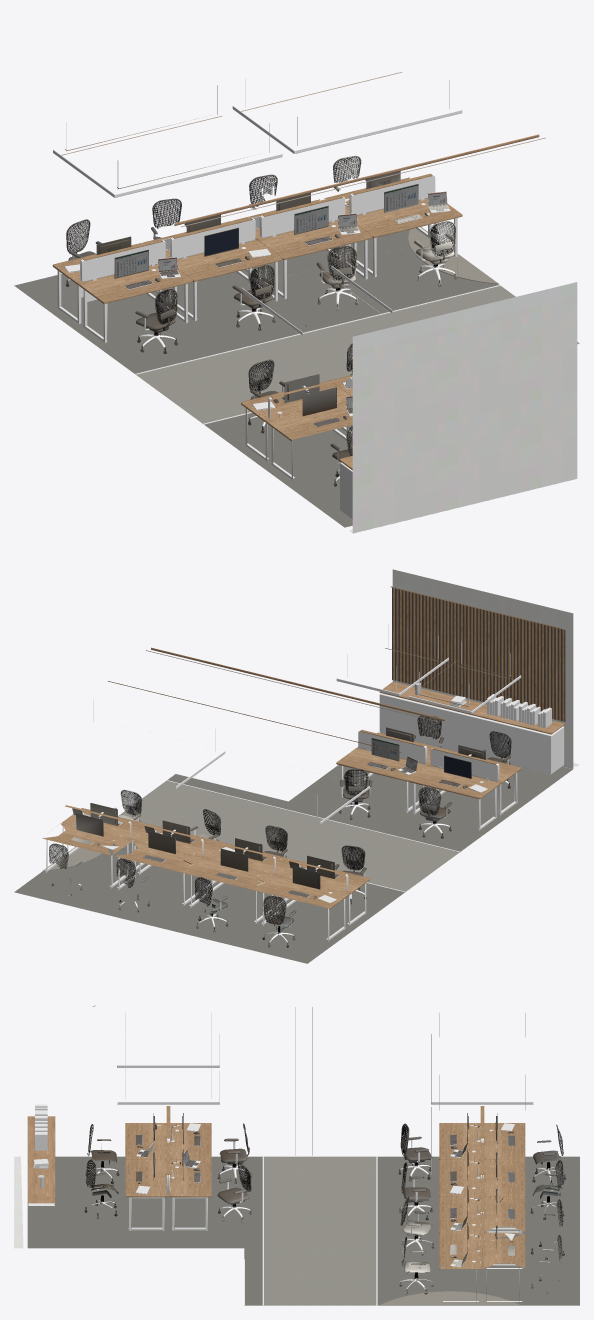
File: z-open_e-lite.full.0d4d4148.glb
The picture shows the model from 3 angles, top to bottom: view 1: azimuth 30°, elevation 25°; view 2: azimuth 150°, elevation 25°; view 3: azimuth 270°, elevation 25°; orthographic projection. The views are drawn at different scales.
Visible parts, largest first — view 1: open_e_plaster, open_e_carpet, open_e_oak, open_e_fx, open_e_satin, open_e_emit, open_e_metal_lit; view 2: open_e_carpet, open_e_proxy_slat, open_e_satin, open_e_oak, open_e_fx, open_e_plaster, open_e_emit, open_e_metal_lit; view 3: open_e_carpet, open_e_oak, open_e_fx, open_e_satin, open_e_metal_lit, open_e_plaster.
Part boxes in pixels (<box>): open_e_plaster: <box>349,282,577,533</box>; open_e_carpet: <box>14,204,579,527</box>; open_e_oak: <box>52,134,539,469</box>; open_e_fx: <box>65,155,456,486</box>; open_e_satin: <box>53,79,500,519</box>; open_e_emit: <box>61,72,545,408</box>; open_e_metal_lit: <box>64,191,579,480</box>; open_e_carpet: <box>14,765,572,963</box>; open_e_proxy_slat: <box>392,587,565,721</box>; open_e_satin: <box>45,624,564,941</box>; open_e_oak: <box>42,647,564,909</box>; open_e_fx: <box>49,715,511,947</box>; open_e_plaster: <box>392,569,579,768</box>; open_e_emit: <box>146,586,562,817</box>; open_e_metal_lit: <box>74,744,508,942</box>; open_e_carpet: <box>27,1156,579,1305</box>; open_e_oak: <box>27,1007,525,1269</box>; open_e_fx: <box>84,1113,566,1294</box>; open_e_satin: <box>28,1005,533,1305</box>; open_e_metal_lit: <box>90,1123,560,1305</box>; open_e_plaster: <box>14,1156,23,1248</box>.
Bounding box in the file's own units: 6.5 × 3.35 × 10.45.
Materials: 9 (6 with a texture image).
